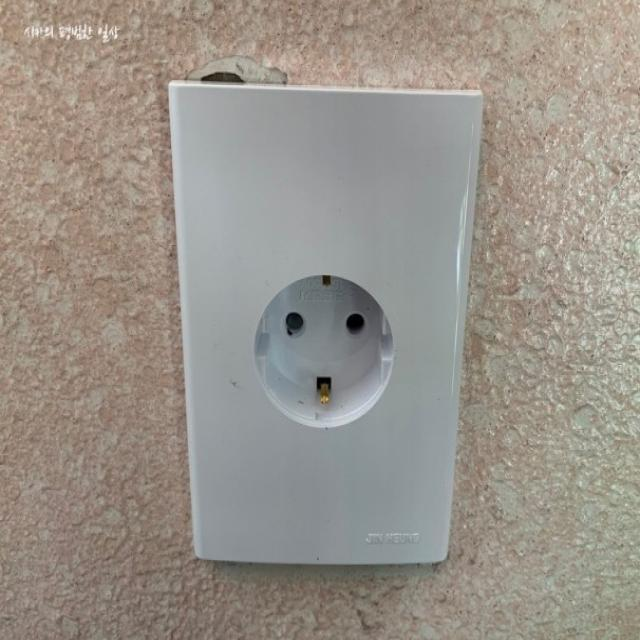typeb: (138, 62, 507, 604)
